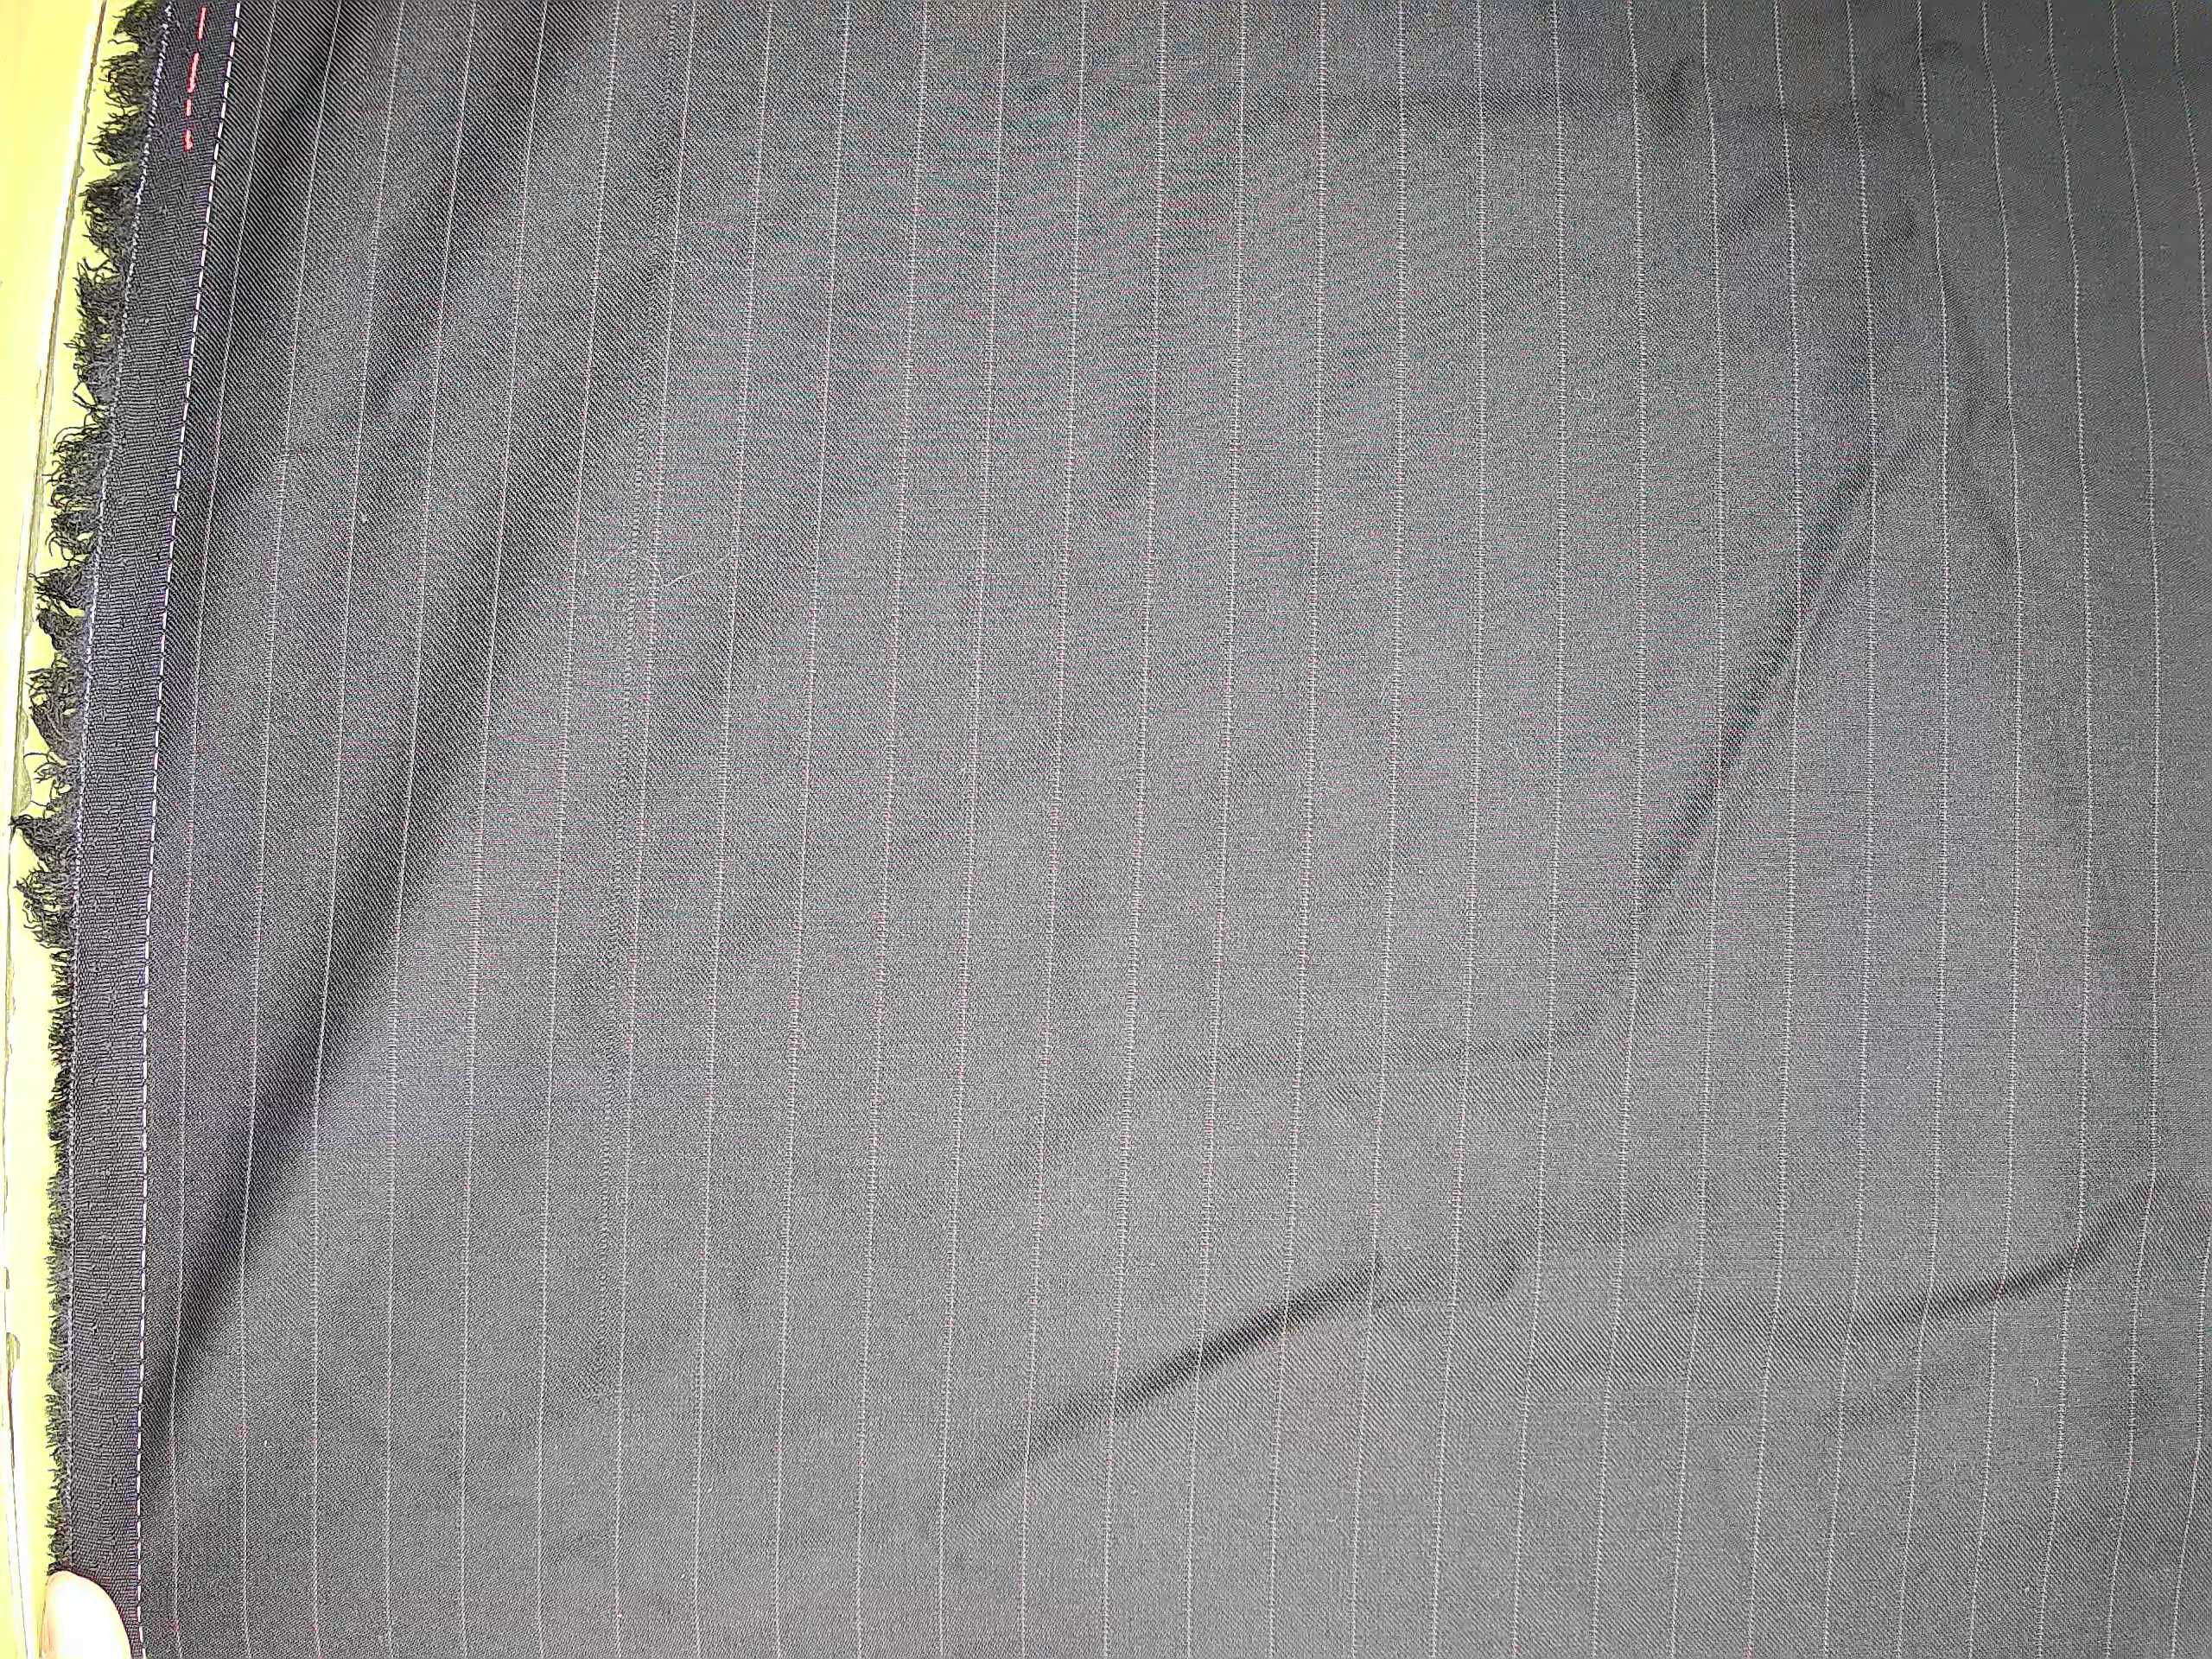lacking-warp: (606, 227, 664, 1006)
